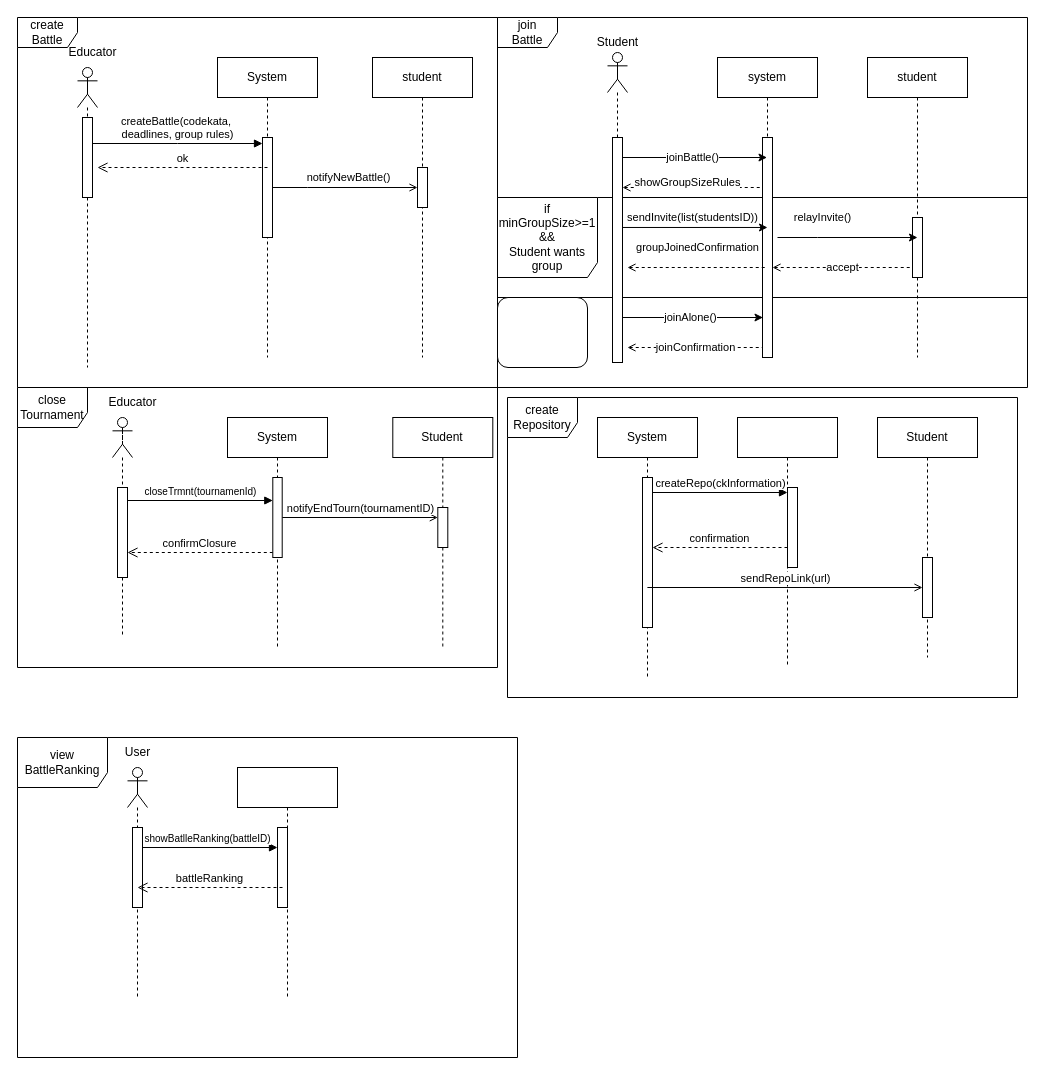
Image size: 1045x1075. Some labels were removed from this diagram. Here are the shapes that lost their labels. From the top down, the centre of each, then its label:
(542,332): groupSize=1 or Student want to be alone
(787,542): Github
(287,882): :Object
